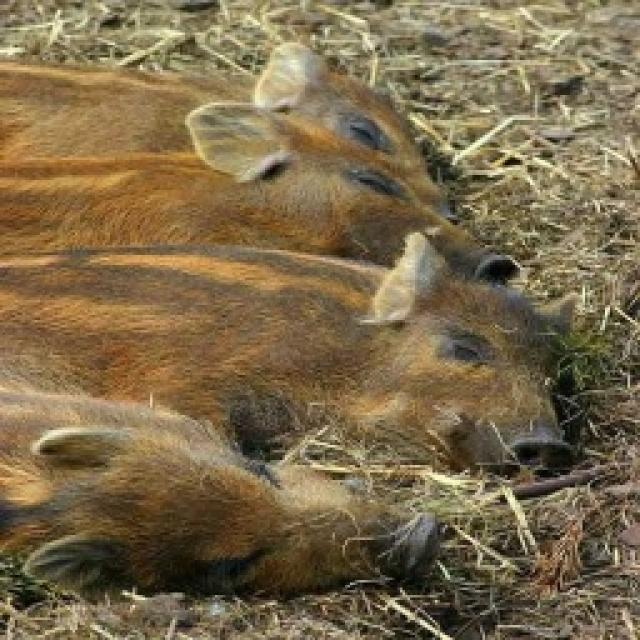pig: (0, 232, 580, 482), (0, 372, 442, 602), (0, 99, 528, 285), (0, 40, 468, 220)
